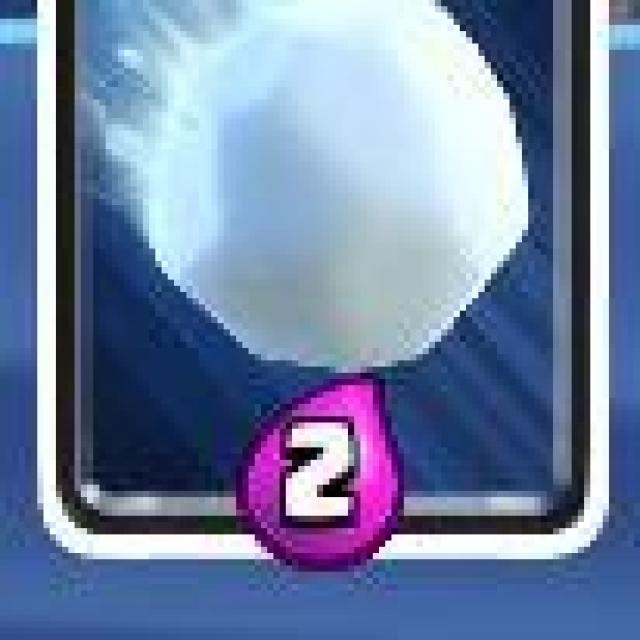Snowball: (38, 0, 611, 559)
